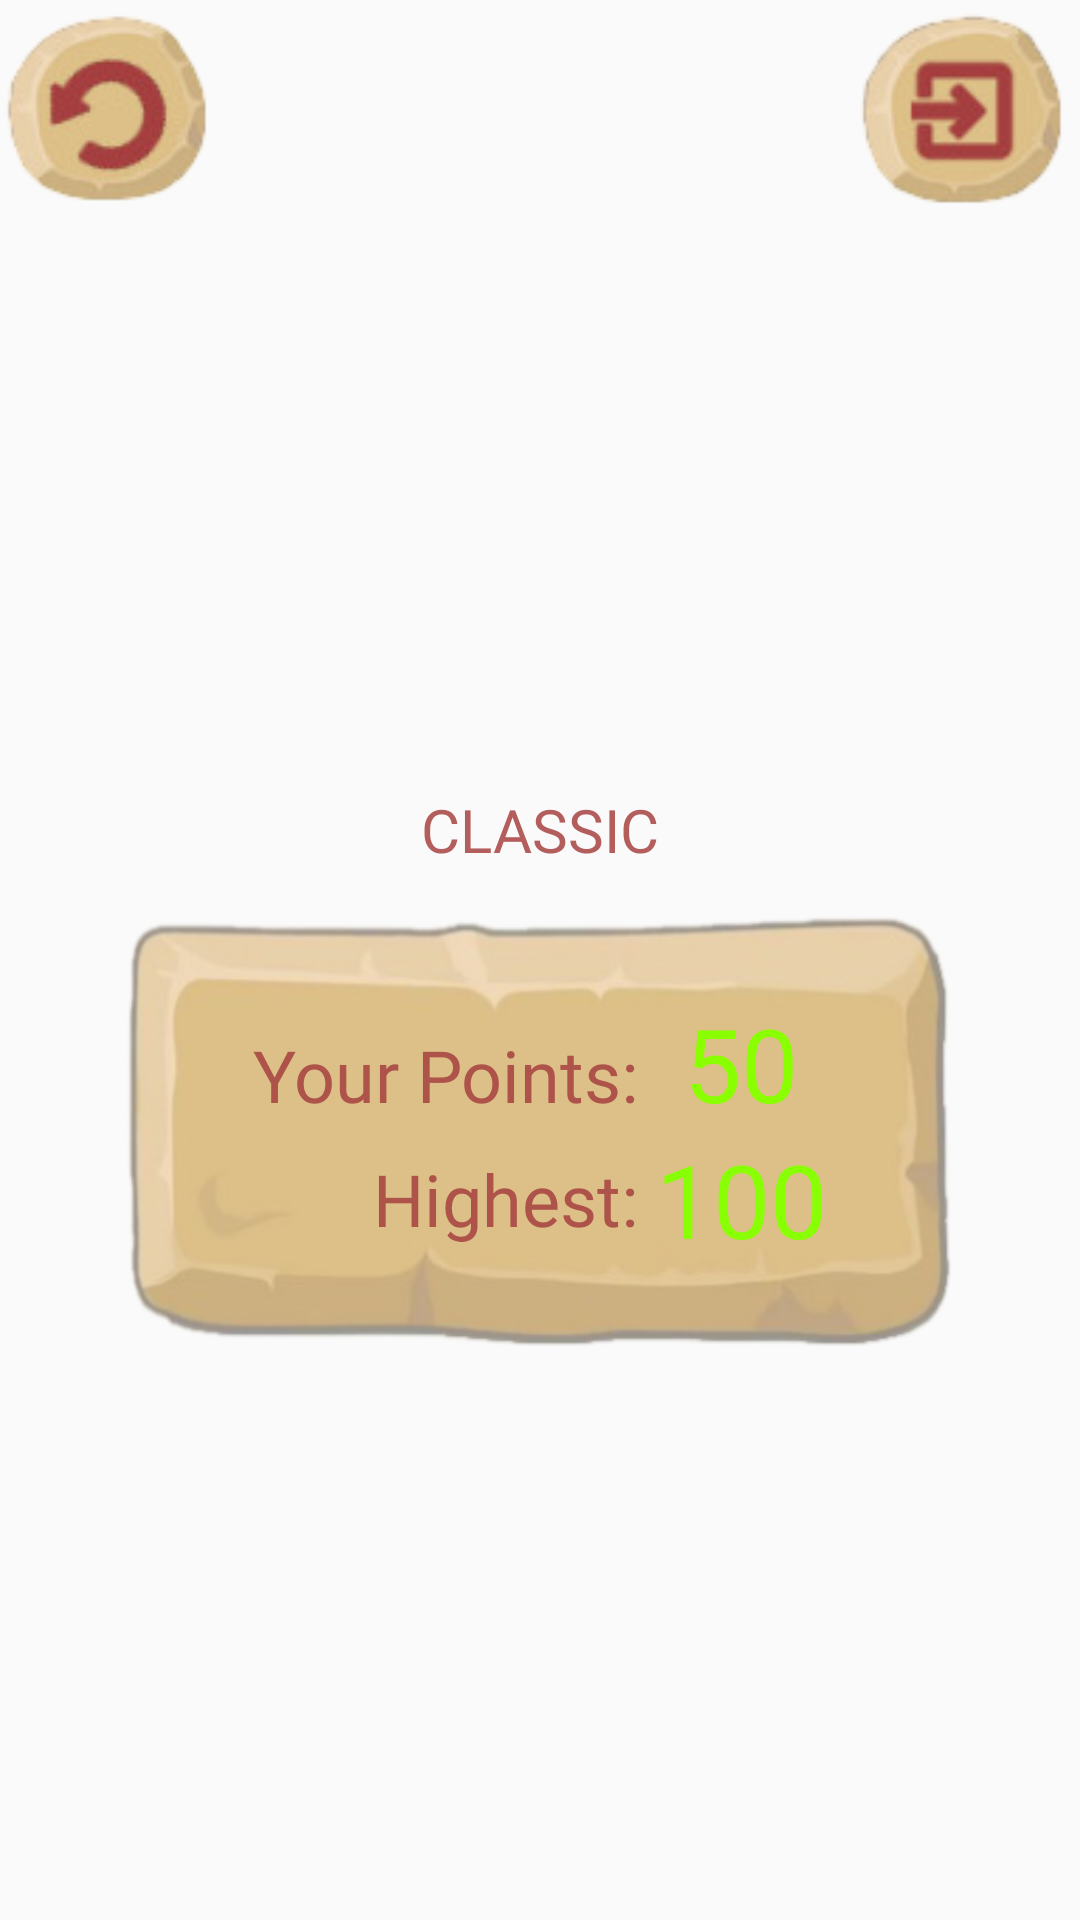

Icons on this 1080 × 1920 Android screen, each with its box as box(x1, y1, x2, y2):
exit: box(863, 16, 1061, 203)
restart: box(8, 16, 206, 201)
